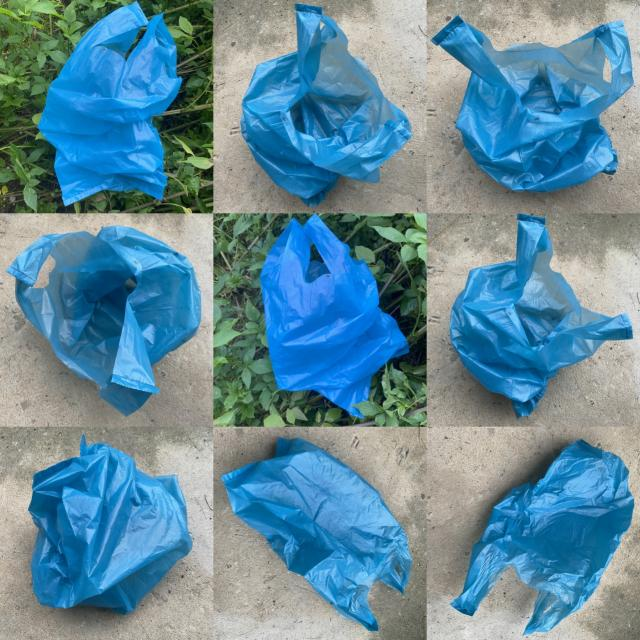Single-layer Plastic: (450, 214, 632, 417), (221, 438, 411, 631), (8, 226, 201, 415), (451, 440, 634, 634), (432, 16, 634, 191), (240, 4, 411, 206), (260, 215, 409, 416), (29, 436, 191, 614), (39, 2, 181, 205)
